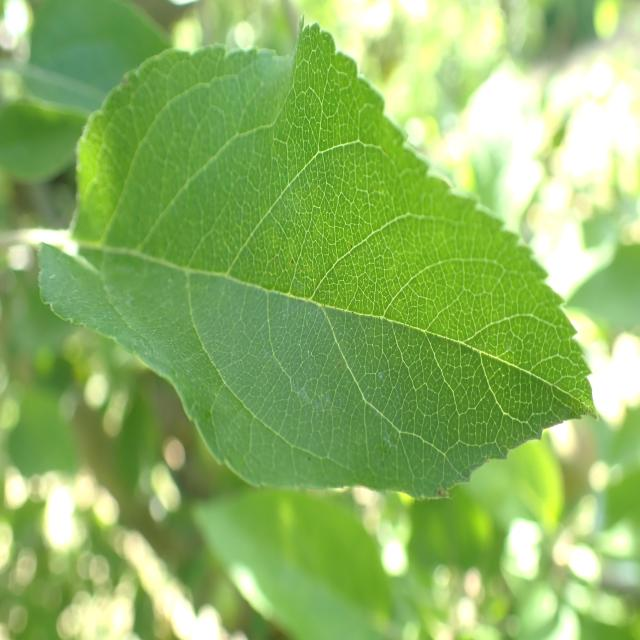healthy: (36, 15, 598, 501)
